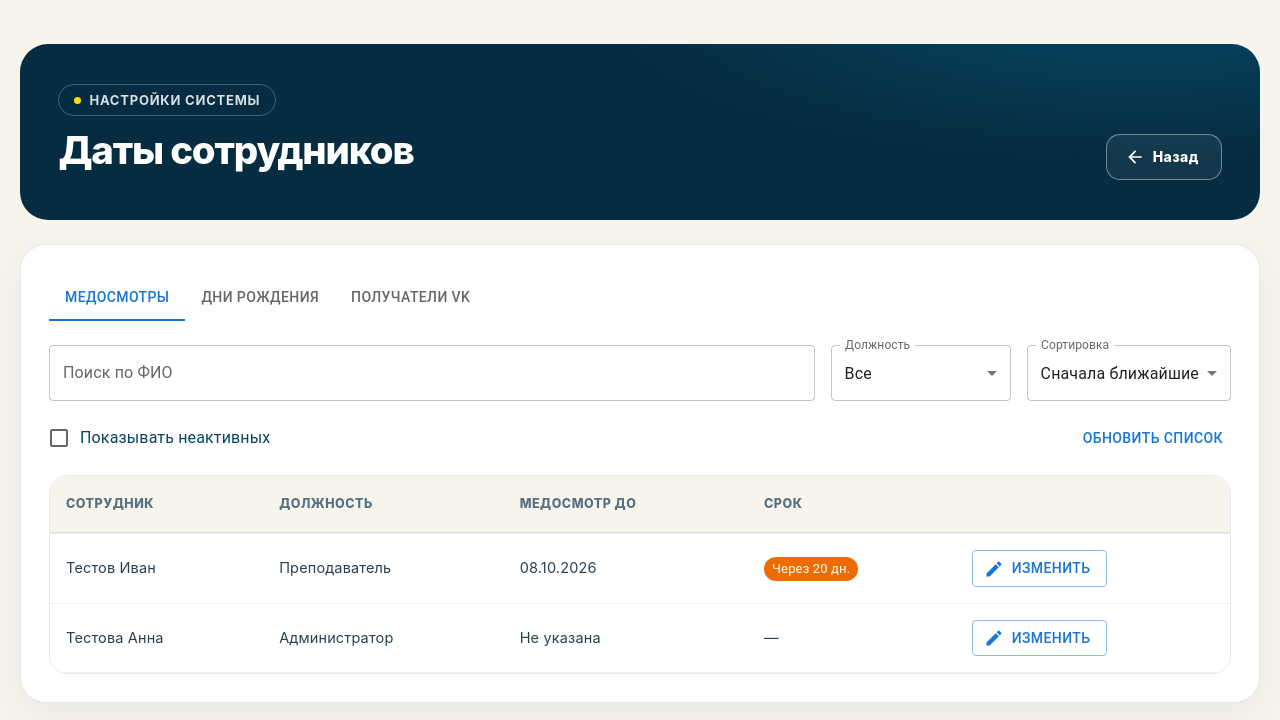
Test: shows separate reminder times returned by the backend
This screenshot has width=1280, height=720.
Expected: the text "Тестов Иван" is shown, [50, 533, 263, 603]
Click the tab "Получатели VK" at (411, 297), box [335, 273, 486, 321]
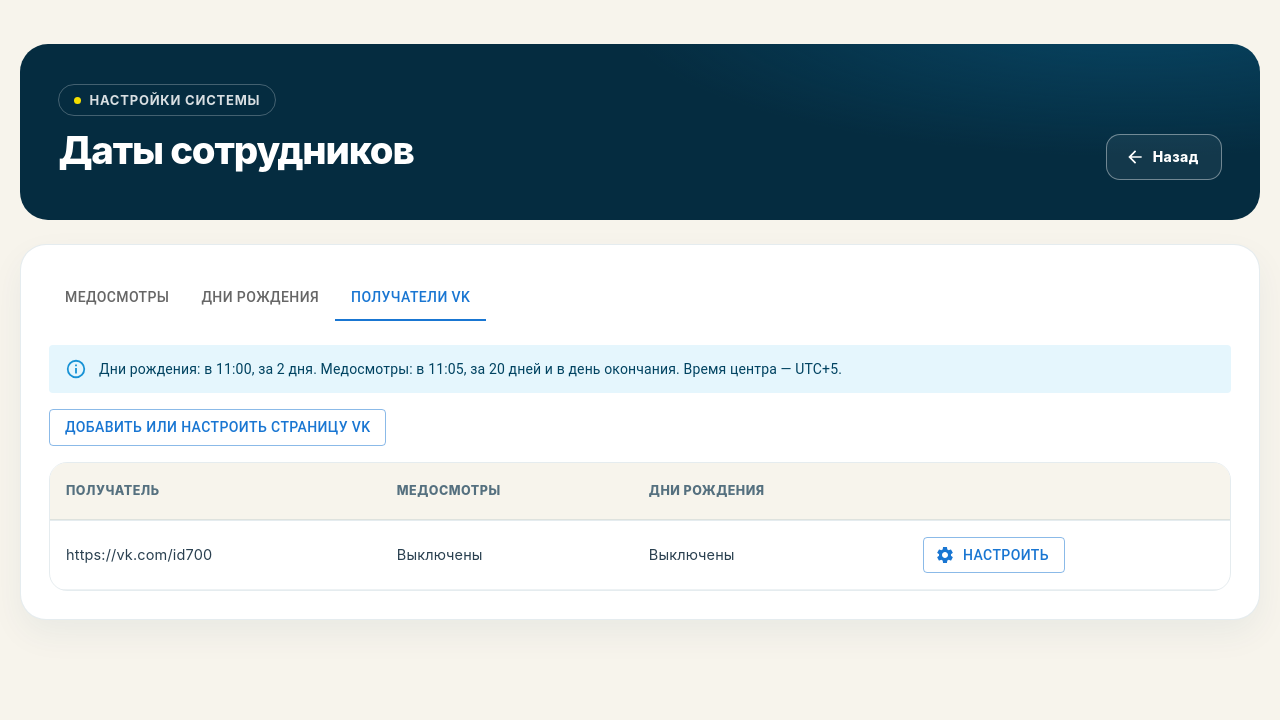
Expected: the text "Дни рождения: в 11:00" shows "Медосмотры: в 11:05", [99, 361, 842, 377]
